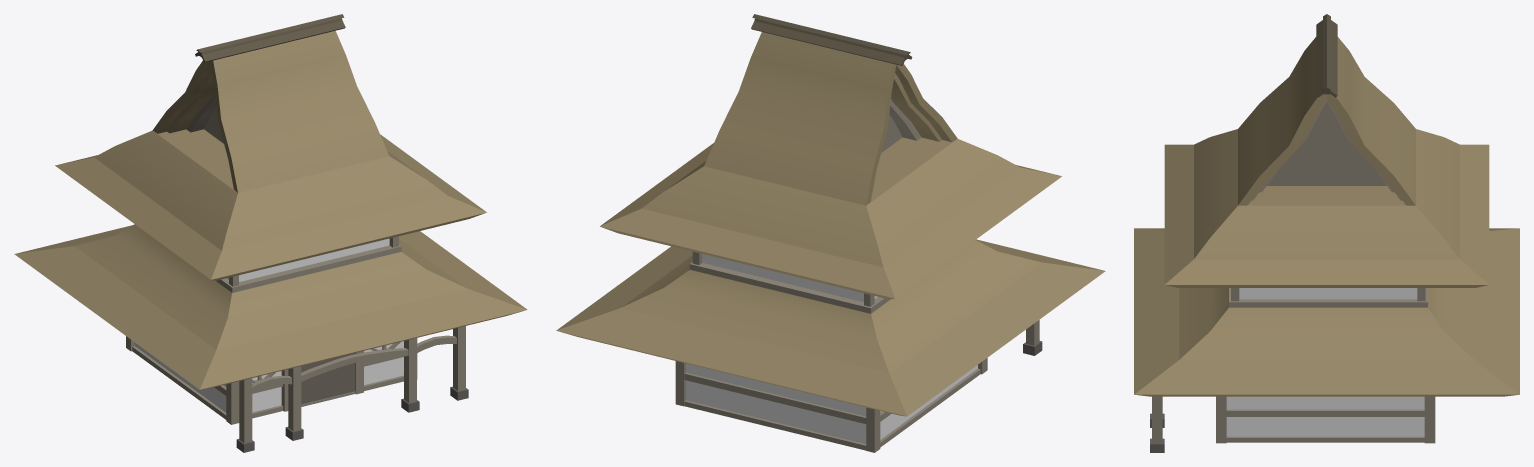
File: House_4.fbx
3 views of the same model, side by side, from view 1: azimuth 30°, elevation 25°; view 2: azimuth 150°, elevation 25°; view 3: azimuth 270°, elevation 25° (orthographic). The views are drawn at different scales.
Parts seen in each view (by area): view 1: House_4; view 2: House_4; view 3: House_4.
Boxes of the visible parts, x1,y1,x2,y2 form: House_4: (14,14,527,452); House_4: (556,14,1105,452); House_4: (1134,14,1519,452).
Size of the model in its own units: 1972 by 1905 by 1931.
